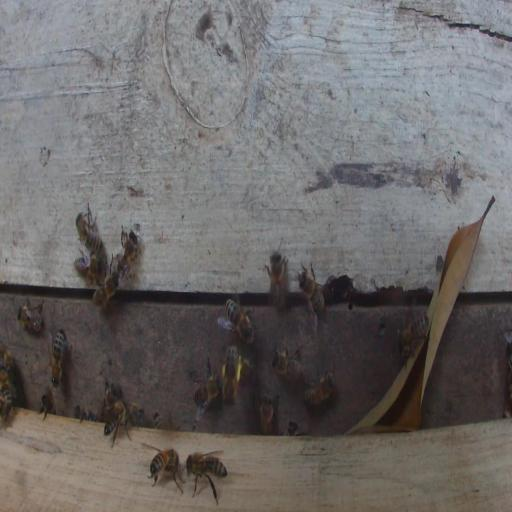nonpollenbee: (186, 451, 226, 505), (297, 260, 325, 329), (192, 354, 220, 418), (264, 236, 287, 309), (148, 447, 183, 494), (398, 311, 430, 357), (225, 298, 255, 345), (116, 224, 141, 279), (302, 368, 336, 408), (76, 204, 102, 256), (2, 348, 25, 405), (271, 345, 304, 384), (103, 399, 131, 444), (92, 272, 119, 312), (51, 328, 67, 386), (16, 300, 44, 333), (73, 254, 103, 284), (258, 398, 277, 435), (0, 383, 14, 424), (39, 390, 57, 420), (103, 382, 118, 418), (241, 358, 259, 383), (128, 402, 144, 425), (285, 419, 299, 436)
pollenbee: (222, 347, 241, 405)
